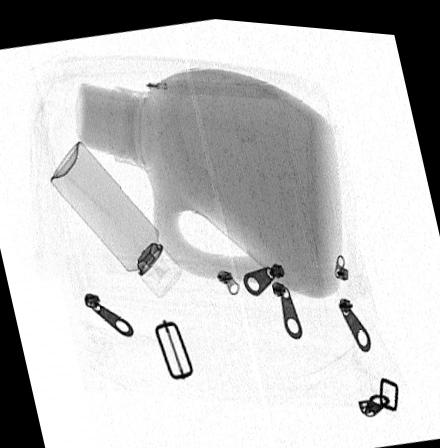Sprayer: (49, 138, 180, 294)
